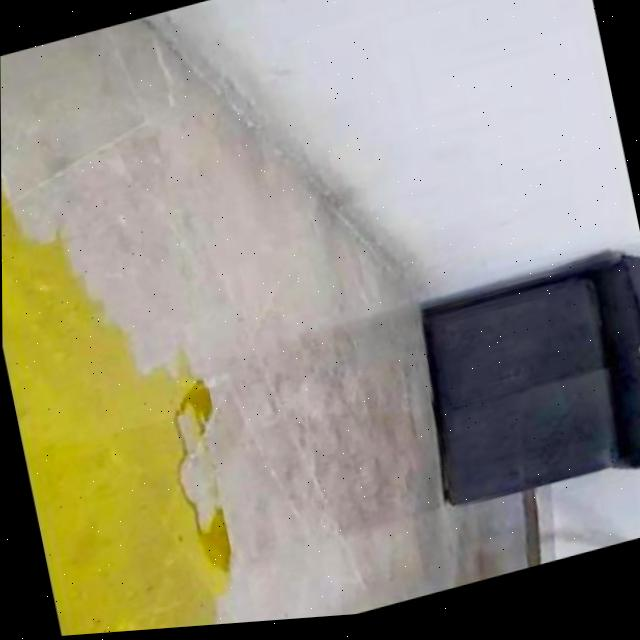spillage: (1, 196, 228, 637)
